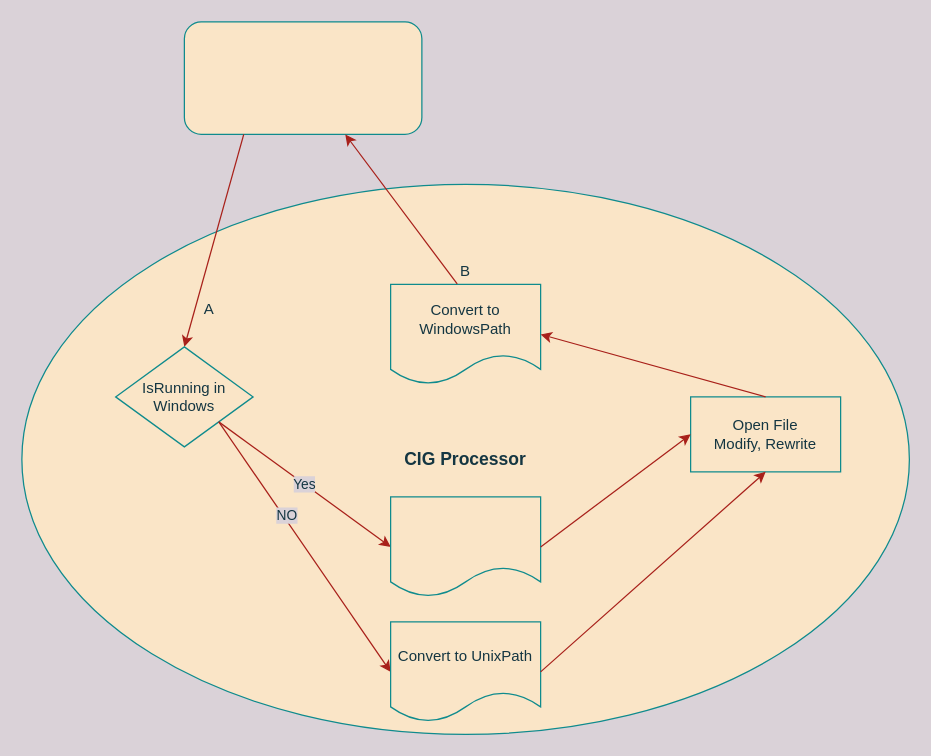
Some shapes in this 931 by 756 pixel diagram are drawn without their labels. Each missing label, with the centre of its shape:
"Convert to WindowPath" goes at (x=465, y=546).
"IIMS IMG_STORE (windows path)" goes at (x=302, y=77).
